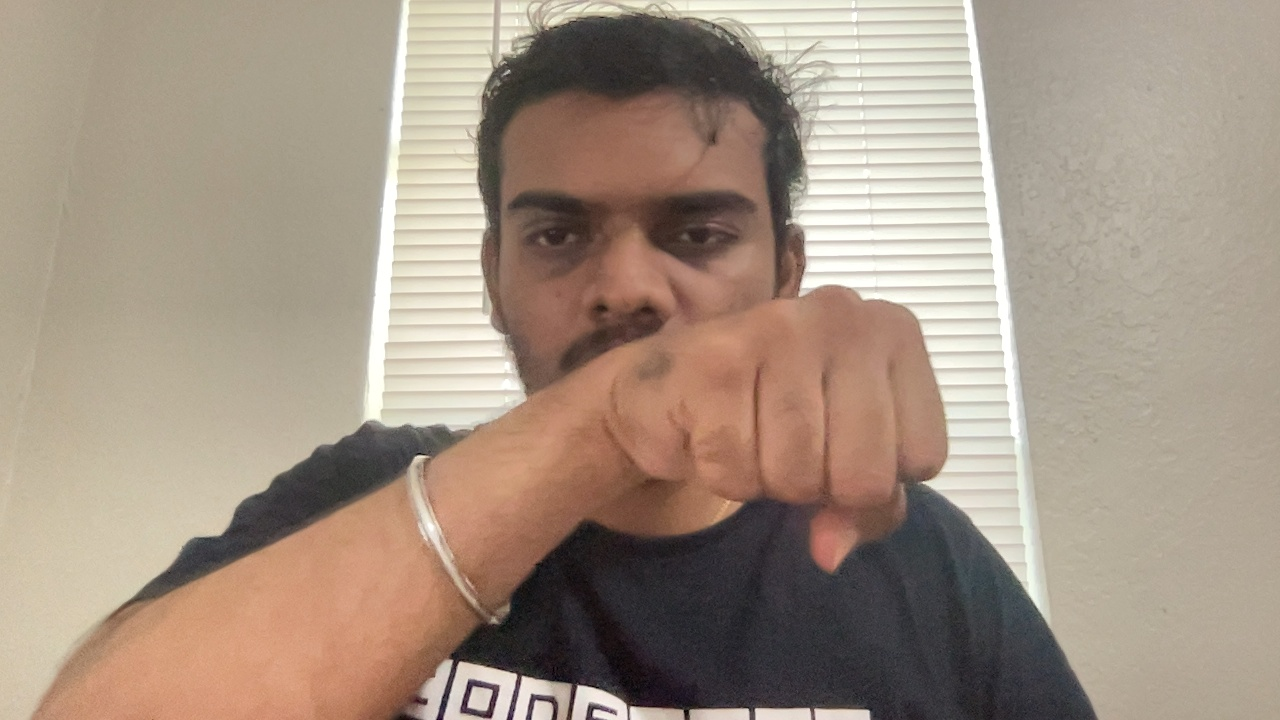yes: (640, 276, 955, 588)
